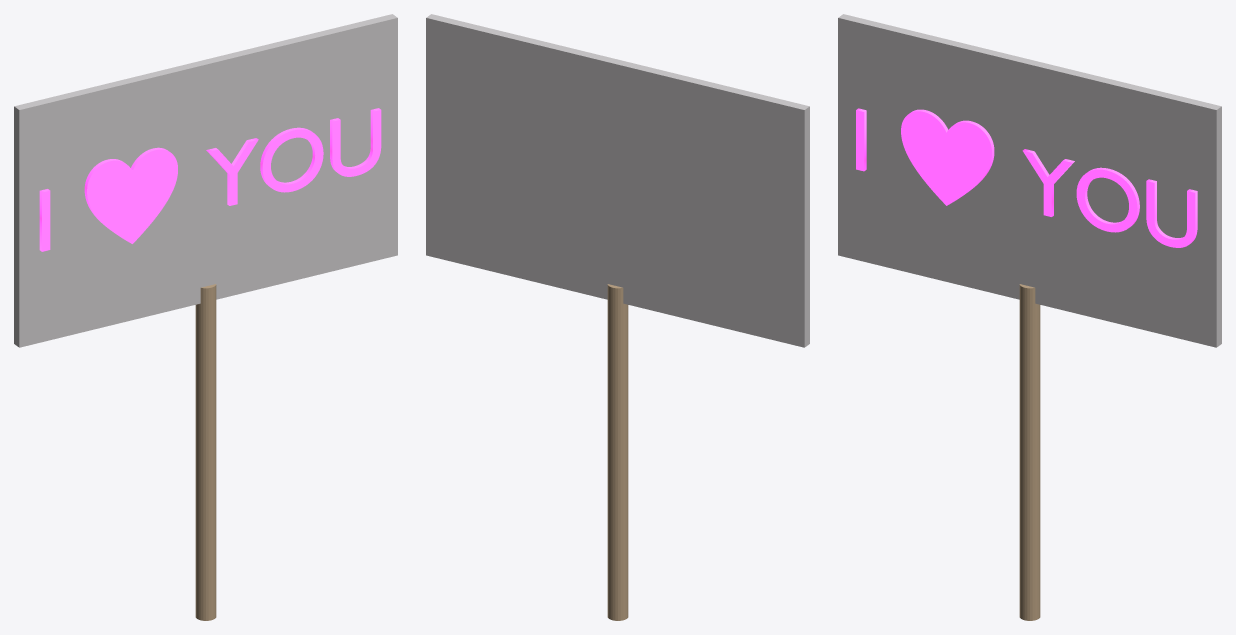
File: prop_sign_i_love_you_placeholder_v0.glb
The picture shows the model from 3 angles, left to right: view 1: azimuth 30°, elevation 25°; view 2: azimuth 150°, elevation 25°; view 3: azimuth 330°, elevation 25°; orthographic projection.
Visible parts, largest first — view 1: Sign_Board, Text_Surface, Sign_Stick; view 2: Sign_Board, Sign_Stick; view 3: Sign_Board, Text_Surface, Sign_Stick.
Boxes of the visible parts, <box> form: Sign_Board: <box>14,14,397,347</box>; Text_Surface: <box>39,108,381,251</box>; Sign_Stick: <box>195,284,216,620</box>; Sign_Board: <box>426,14,809,347</box>; Sign_Stick: <box>607,284,628,620</box>; Sign_Board: <box>838,14,1221,347</box>; Text_Surface: <box>856,108,1197,247</box>; Sign_Stick: <box>1019,284,1040,620</box>.
Size of the model in its own units: 0.5 by 0.7 by 0.024.
